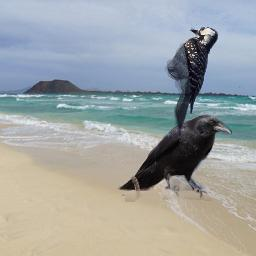Crow: (114, 113, 232, 202)
Woodpecker: (165, 21, 218, 138)
